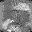people: (2, 19, 14, 30)
